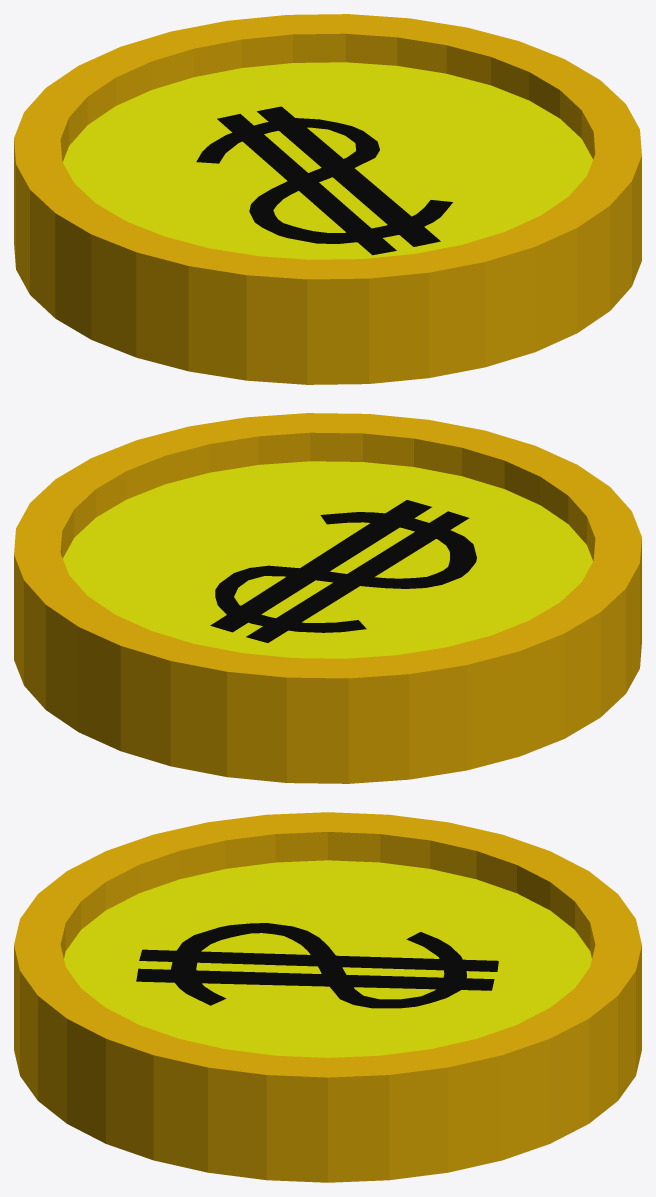
The model's file is Coin.fbx.
3 renders of one model, top to bottom at view 1: azimuth 30°, elevation 25°; view 2: azimuth 150°, elevation 25°; view 3: azimuth 270°, elevation 25°, orthographic.
Parts seen in each view (by area): view 1: Cylinder; view 2: Cylinder; view 3: Cylinder.
Part boxes in pixels (<box>): Cylinder: <box>14,14,641,384</box>; Cylinder: <box>14,413,641,783</box>; Cylinder: <box>14,812,641,1182</box>.
Bounding box in the file's own units: 200 × 36.97 × 200.
